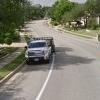Car: (23, 35, 56, 71)
